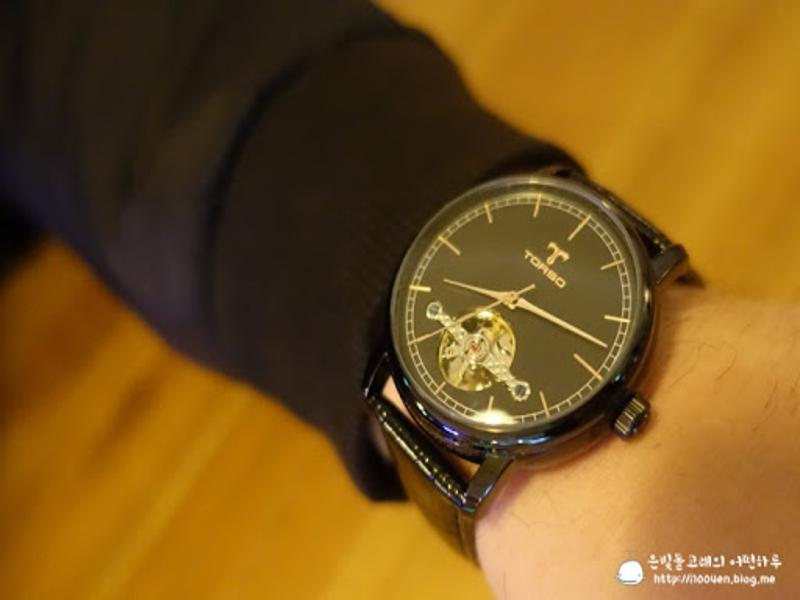watch: (361, 165, 698, 571)
